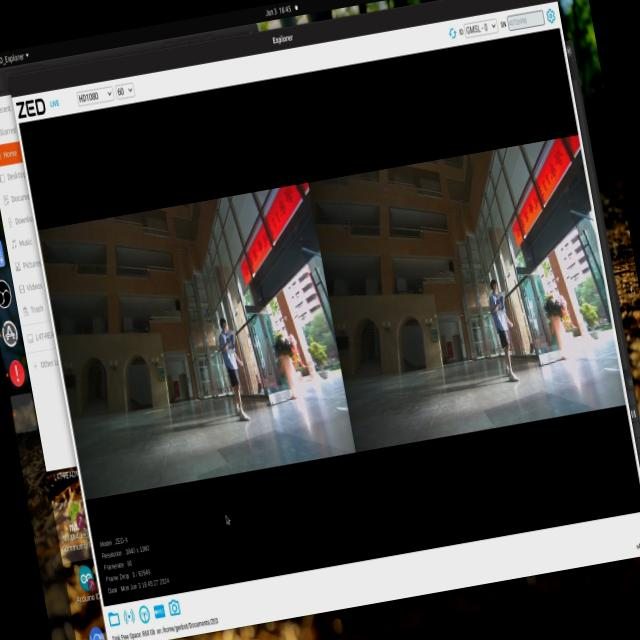blue: (222, 326, 240, 352), (492, 296, 507, 313)
